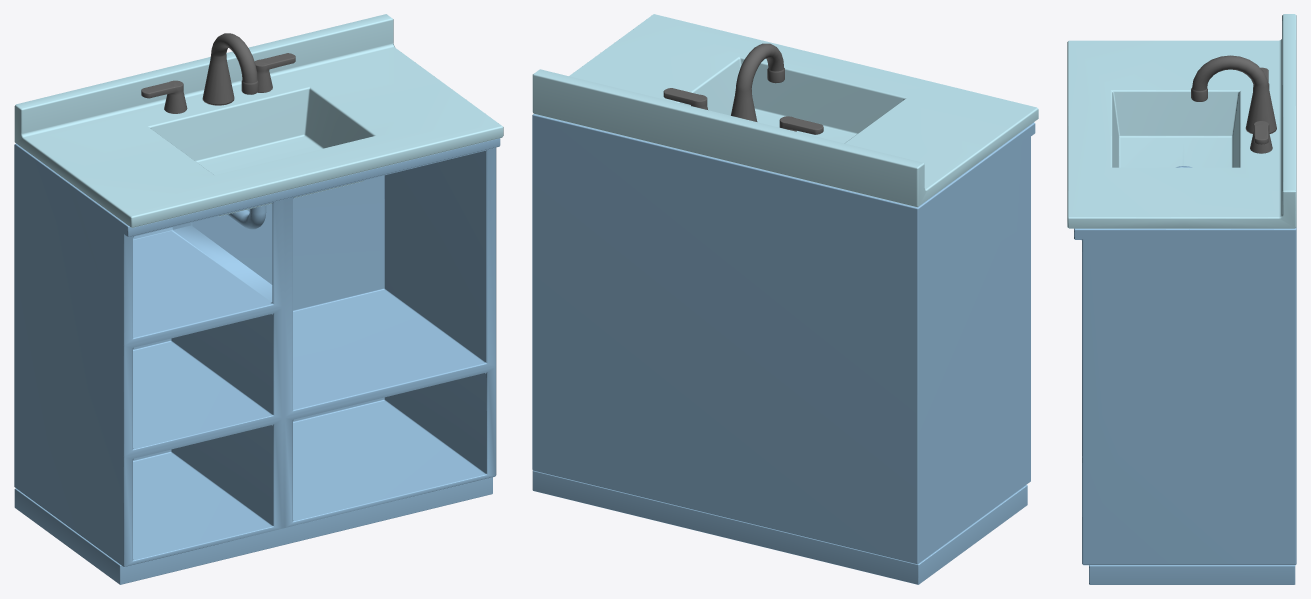
Rendered from lavandino_bagno_fix.fbx.
The picture shows the model from 3 angles, left to right: view 1: azimuth 30°, elevation 25°; view 2: azimuth 150°, elevation 25°; view 3: azimuth 270°, elevation 25°; orthographic projection. The views are drawn at different scales.
Parts seen in each view (by area): view 1: lavandino_bagno; view 2: lavandino_bagno; view 3: lavandino_bagno.
Part boxes in pixels (box(x1,y1,x2,y2)): lavandino_bagno: box(14, 14, 503, 584); lavandino_bagno: box(532, 14, 1038, 584); lavandino_bagno: box(1067, 14, 1296, 584).
Size of the model in its own units: 85.37 by 46.5 by 98.43.
